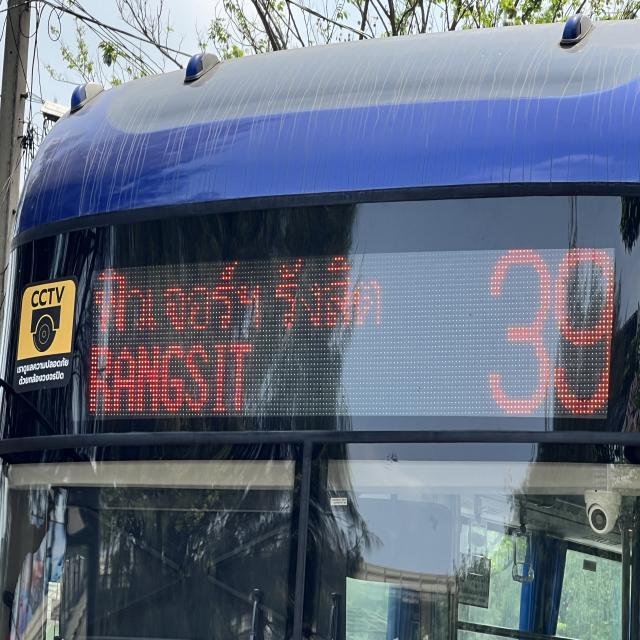Bus-Line-Number: (481, 219, 626, 448)
Destination-Sign-Normal: (80, 238, 421, 426)
TSB-Bus: (0, 15, 640, 640)
